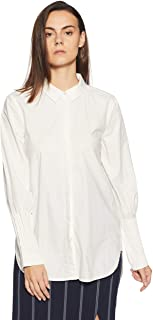shirt: (1, 71, 149, 281)
